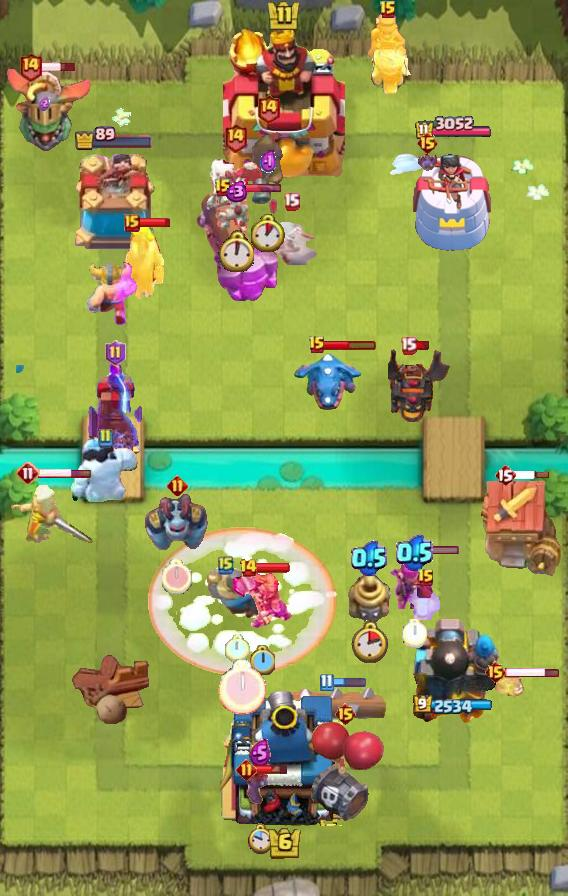archer-evolution: (388, 345, 454, 425)
barbarian-barrel: (244, 770, 276, 806), (414, 146, 440, 176)
bomb-tower: (249, 128, 287, 206)
electro-spirit: (395, 533, 432, 570), (351, 540, 387, 576), (249, 739, 271, 767), (224, 182, 248, 203), (259, 149, 277, 175), (38, 96, 50, 111)
elite-barbarian: (365, 11, 411, 95)
elixir: (218, 659, 266, 715), (217, 230, 255, 272), (351, 621, 388, 664), (251, 214, 285, 252), (162, 559, 192, 593), (247, 823, 273, 855), (249, 645, 275, 675), (401, 619, 426, 648), (225, 634, 250, 662)
elixir-golem-small: (143, 492, 211, 554)
emote: (505, 665, 560, 679), (323, 339, 376, 351), (38, 469, 92, 480), (230, 182, 282, 193), (409, 544, 460, 555), (40, 61, 77, 73), (255, 562, 291, 574), (254, 763, 289, 775), (331, 677, 367, 688), (137, 217, 171, 228), (514, 470, 550, 480), (414, 341, 431, 352)
evolution-symbol: (388, 551, 440, 609)
firecracker: (205, 565, 269, 621)
furnace: (192, 191, 282, 305)
goblin-drill: (346, 570, 392, 622)
goblin-giant: (86, 260, 138, 326)
goblin-hut: (120, 219, 164, 302)
graveyard: (292, 350, 364, 414)
ice-spirit-evolution: (404, 584, 448, 620), (492, 673, 526, 699)
ice-spirit-evolution-symbol: (85, 359, 145, 455)
king-tower: (214, 684, 354, 826), (223, 27, 345, 181)
mini-pekka: (205, 157, 265, 233)
minion: (287, 683, 387, 725)
night-witch: (0, 65, 94, 153)
phoenix-big: (147, 527, 337, 677)
poison: (0, 475, 94, 547)
queen-tower: (66, 154, 162, 256), (410, 144, 496, 255)
rage: (70, 436, 140, 502)
royal-recruit-evolution: (306, 720, 384, 826)
selected: (414, 115, 494, 140), (74, 126, 154, 151), (413, 695, 493, 716)
sparky: (475, 480, 561, 578)
tesla: (264, 213, 318, 265)
tesla-evolution: (230, 568, 294, 630)
text: (18, 51, 43, 82), (256, 93, 280, 124), (224, 123, 248, 154), (16, 461, 40, 485), (416, 131, 439, 155), (484, 660, 507, 684), (335, 702, 358, 726), (105, 340, 126, 366), (494, 463, 516, 487), (236, 759, 257, 781), (167, 476, 188, 497), (239, 558, 258, 578), (379, 0, 397, 20), (214, 178, 232, 198), (308, 335, 326, 355), (417, 568, 435, 588), (399, 337, 417, 356), (284, 192, 301, 211), (97, 428, 113, 448), (218, 555, 234, 575), (124, 214, 140, 232), (319, 673, 334, 692)
tower-bar: (406, 611, 500, 731)
